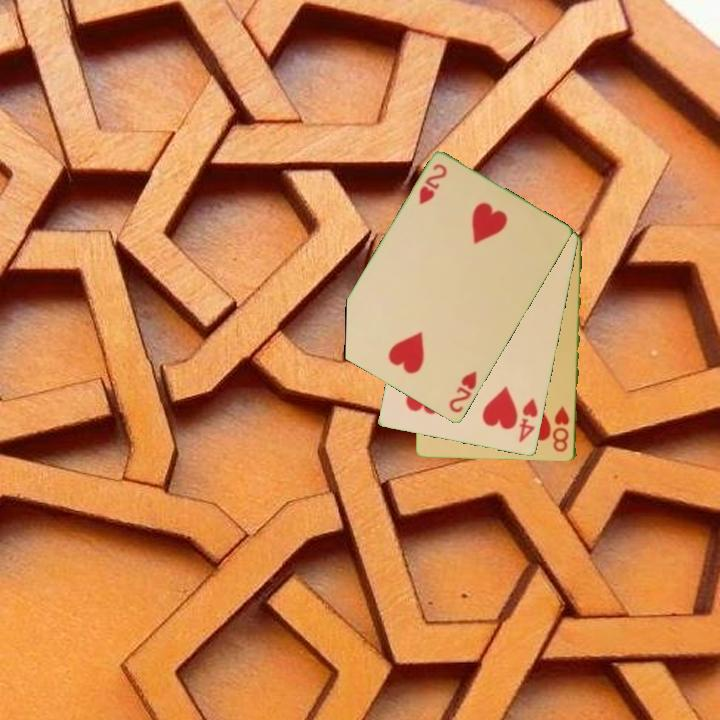2h: (445, 367, 480, 416), (415, 160, 450, 208)
4h: (515, 395, 541, 446)
8h: (551, 403, 572, 455)
